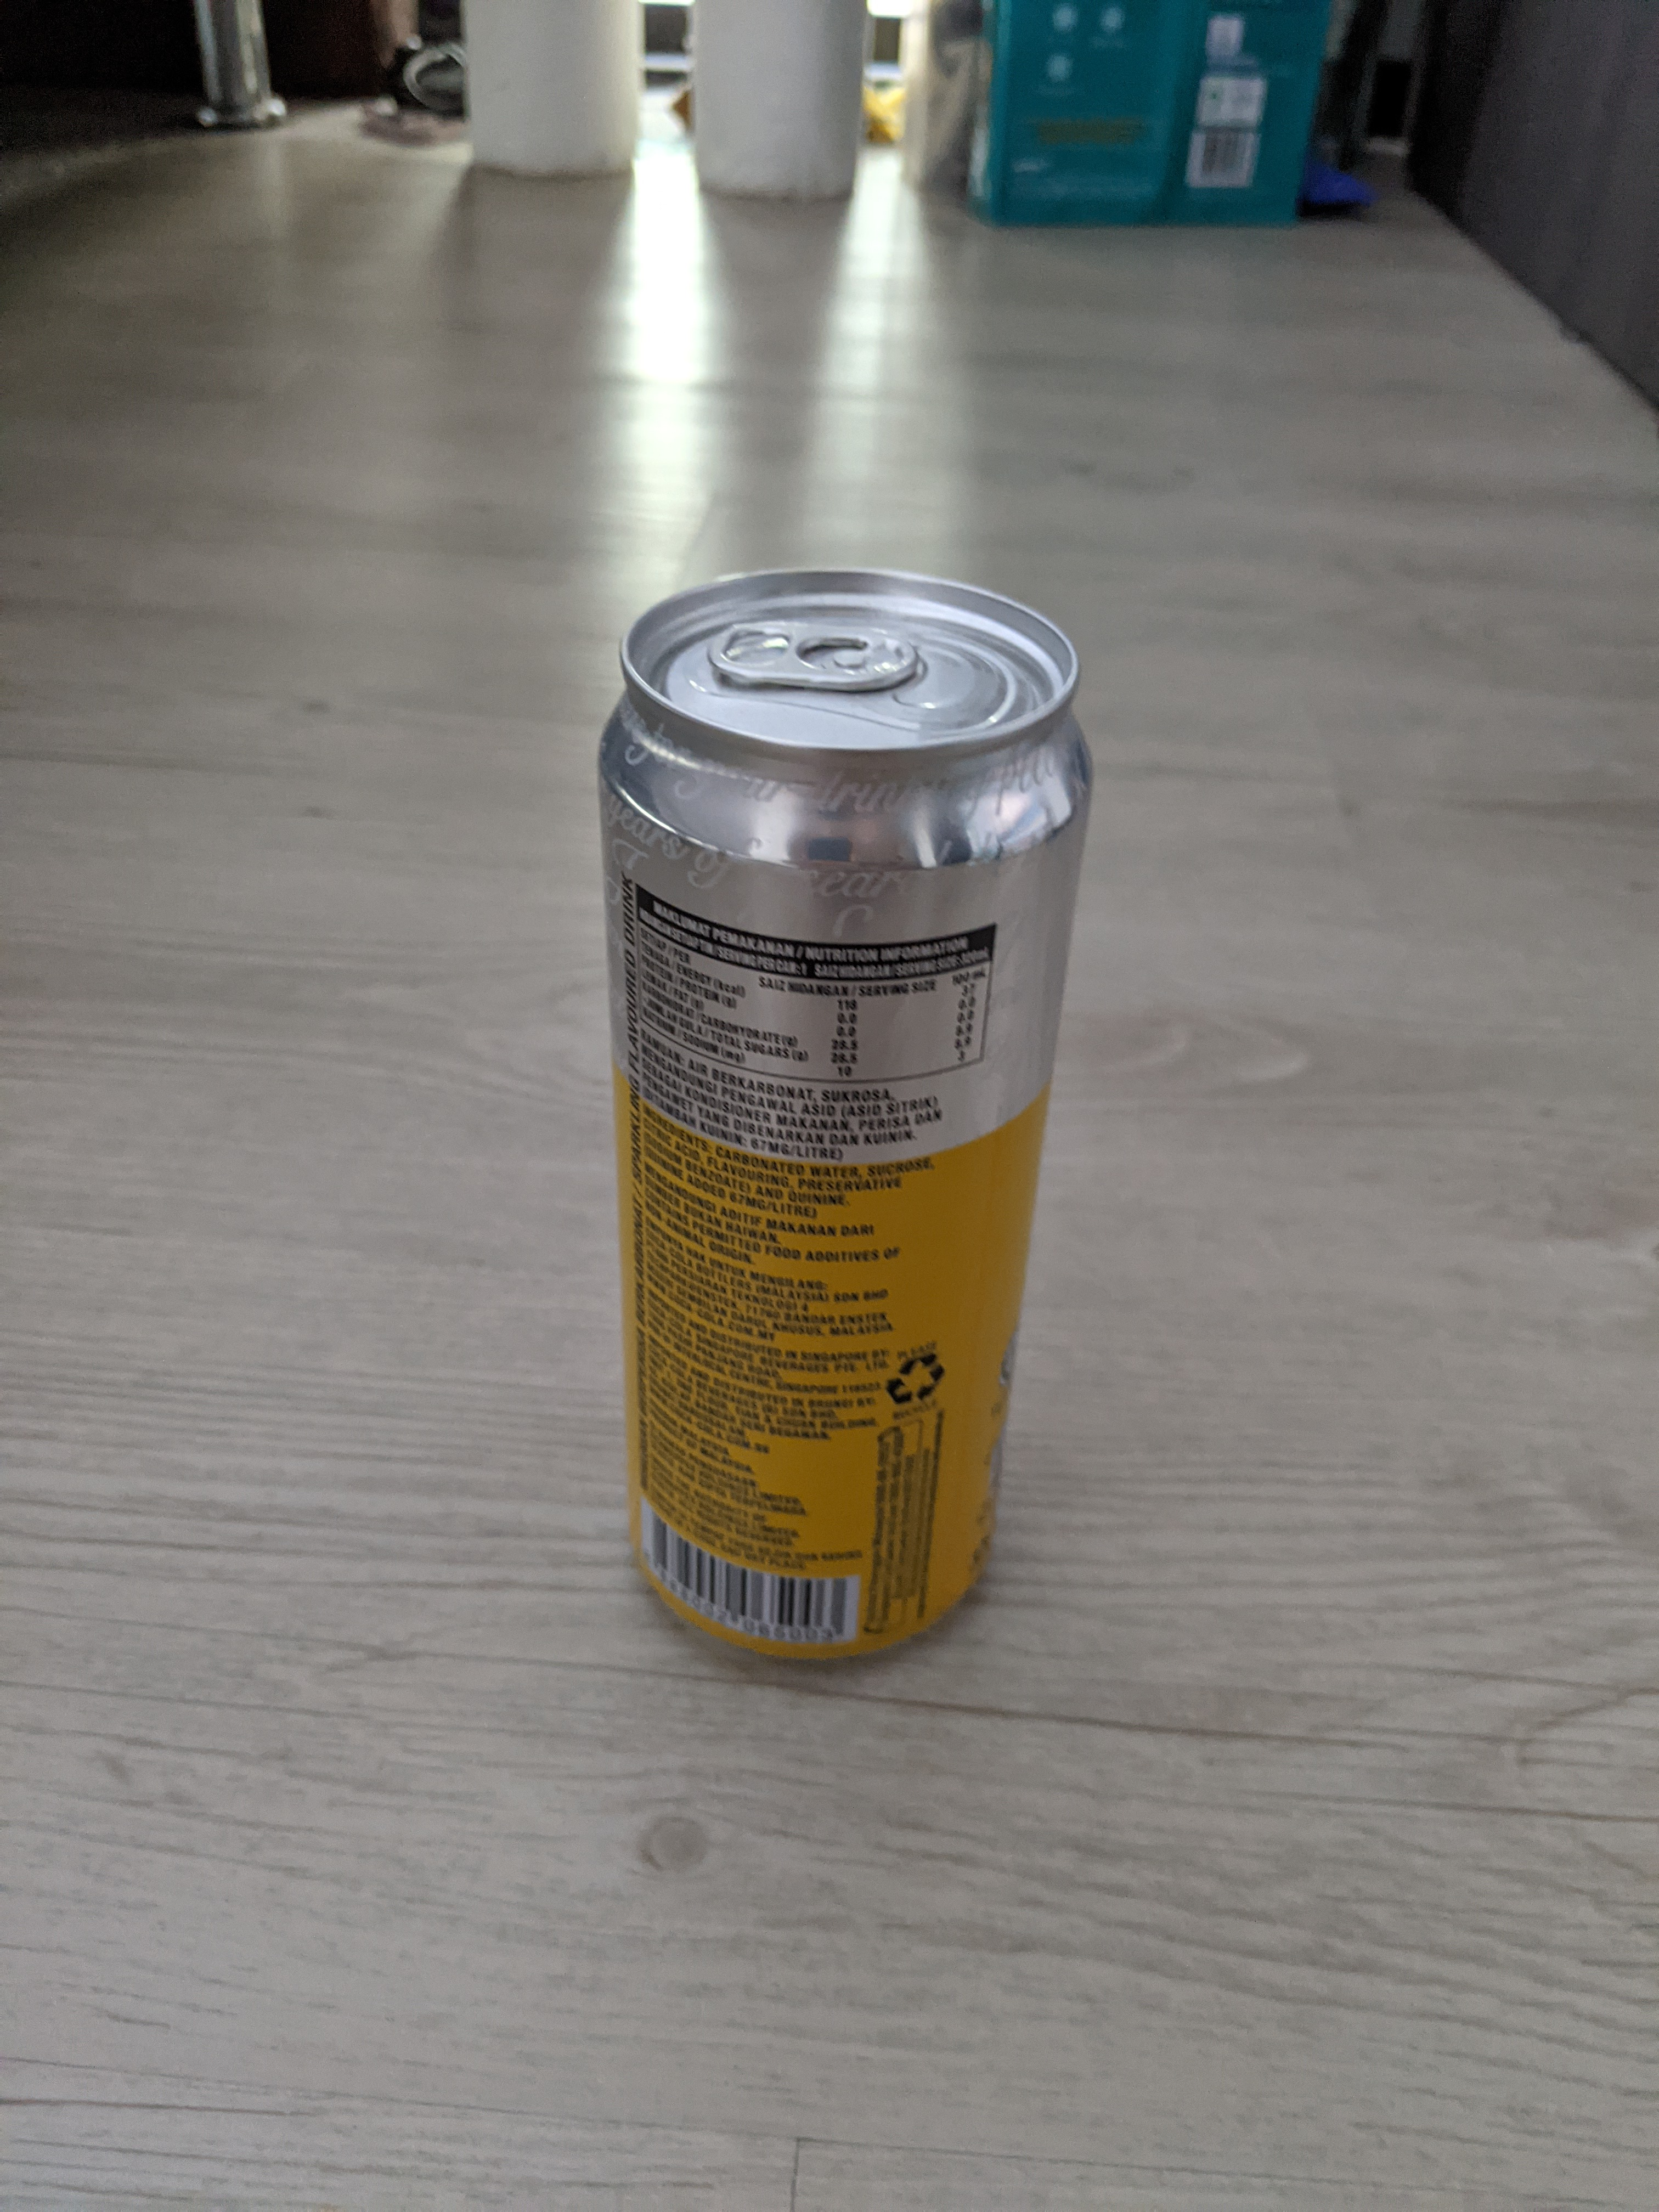schweppes drink can tonic water: (579, 545, 1108, 1698)
